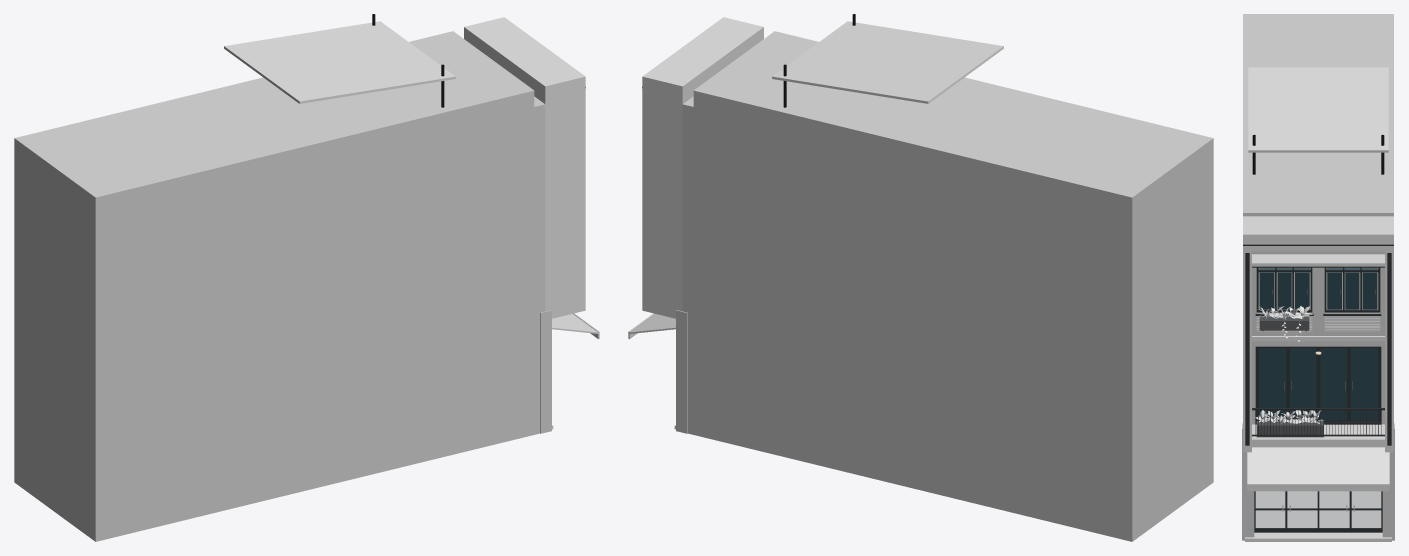
Rendered from OW_Mau_NhaPho_5_0_1.fbx.
3 views of the same model, side by side, from view 1: azimuth 30°, elevation 25°; view 2: azimuth 150°, elevation 25°; view 3: azimuth 270°, elevation 25° (orthographic). The views are drawn at different scales.
Visible parts, largest first — view 1: OW_NhaPho_9010; view 2: OW_NhaPho_9010; view 3: OW_NhaPho_9010, OW_MatTienKinh.
Boxes of the visible parts, left/top/right/bottom form: OW_NhaPho_9010: left=14, top=14, right=599, bottom=541; OW_NhaPho_9010: left=628, top=14, right=1213, bottom=541; OW_NhaPho_9010: left=1242, top=14, right=1394, bottom=541; OW_MatTienKinh: left=1254, top=491, right=1382, bottom=532.
Bounding box in the file's own units: 17.77 × 13.01 × 5.
